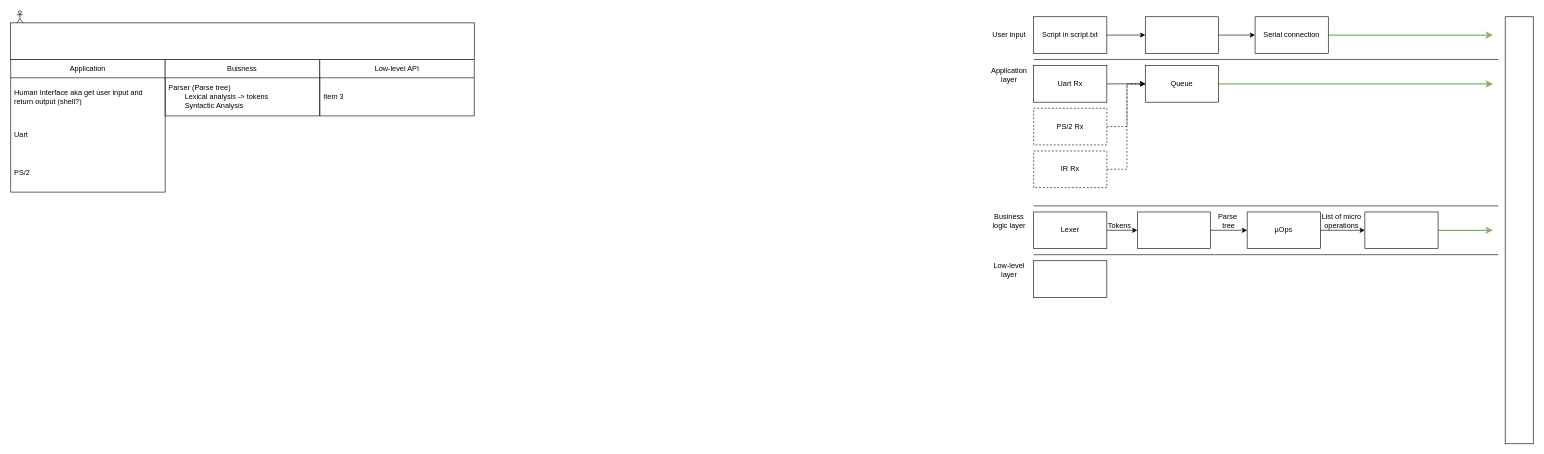
The diagram is 1544 pixels wide and 454 high, and some of its shapes have lost their labels. The box of each missing label's shape, as (x1, y1, x2, y2) in pixels:
*.exe/ *.py Uart transmitter: (1145, 16, 1218, 53)
Execute µOps: (1364, 211, 1438, 249)
High Level Design Software Ontwikkeling: (10, 22, 474, 59)
Output: (1505, 16, 1533, 444)
Recursive Descent Parser: (1137, 211, 1211, 249)
